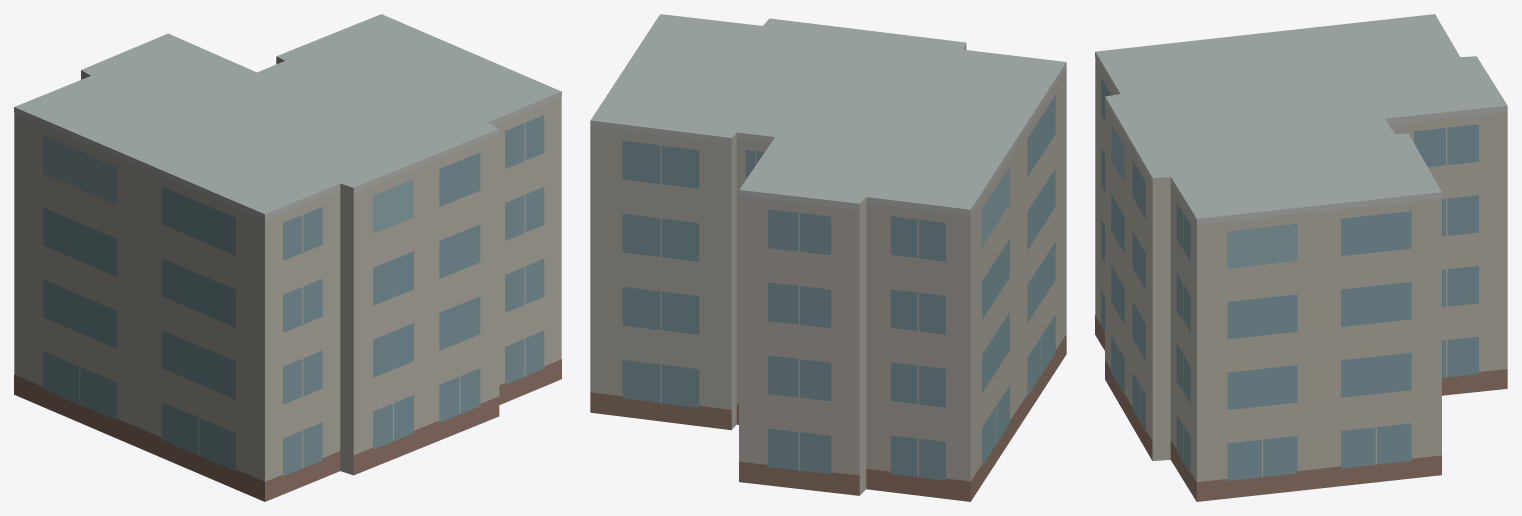
The model's file is survey-upis-32712864.glb.
The picture shows the model from 3 angles, left to right: view 1: azimuth 30°, elevation 25°; view 2: azimuth 150°, elevation 25°; view 3: azimuth 270°, elevation 25°; orthographic projection. The views are drawn at different scales.
Visible parts, largest first — view 1: survey-upis-32712864.tmp; view 2: survey-upis-32712864.tmp; view 3: survey-upis-32712864.tmp.
Part boxes in pixels (bbox=[...]): survey-upis-32712864.tmp: bbox=[14, 14, 561, 501]; survey-upis-32712864.tmp: bbox=[590, 14, 1066, 501]; survey-upis-32712864.tmp: bbox=[1095, 14, 1507, 501].
Bounding box in the file's own units: 18.95 × 12.2 × 16.12.
